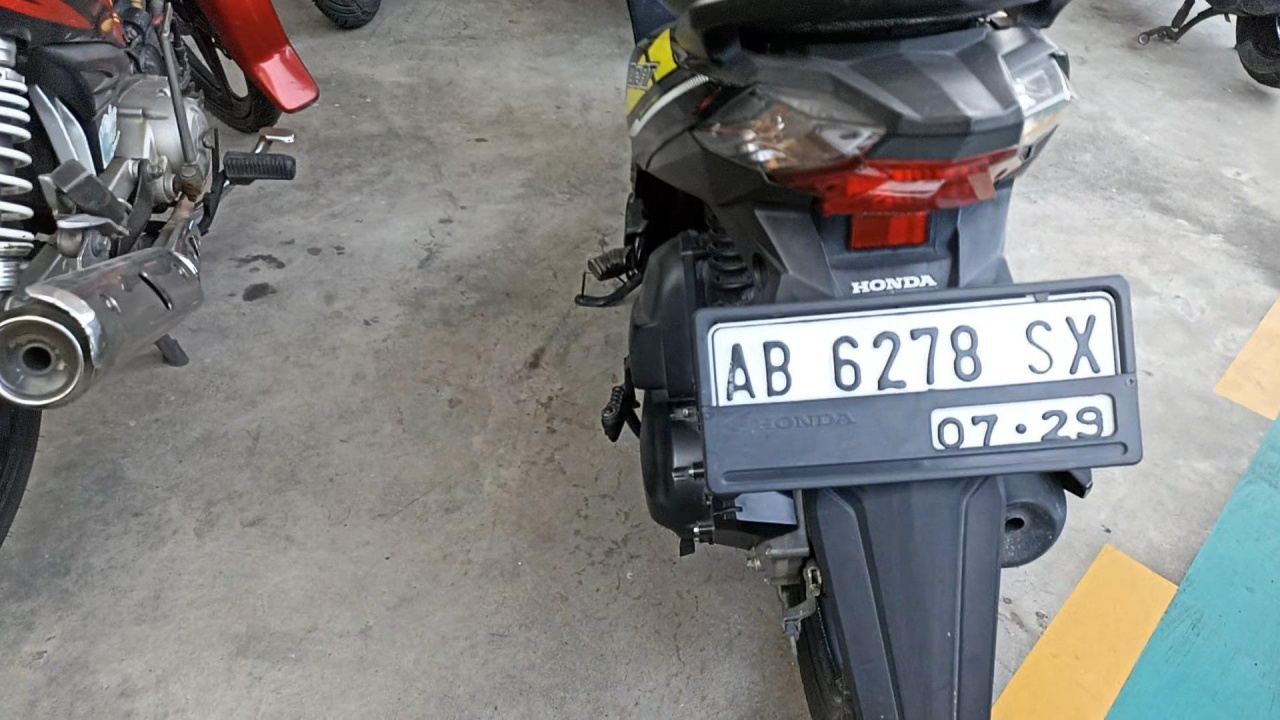plate: (702, 281, 1136, 484)
